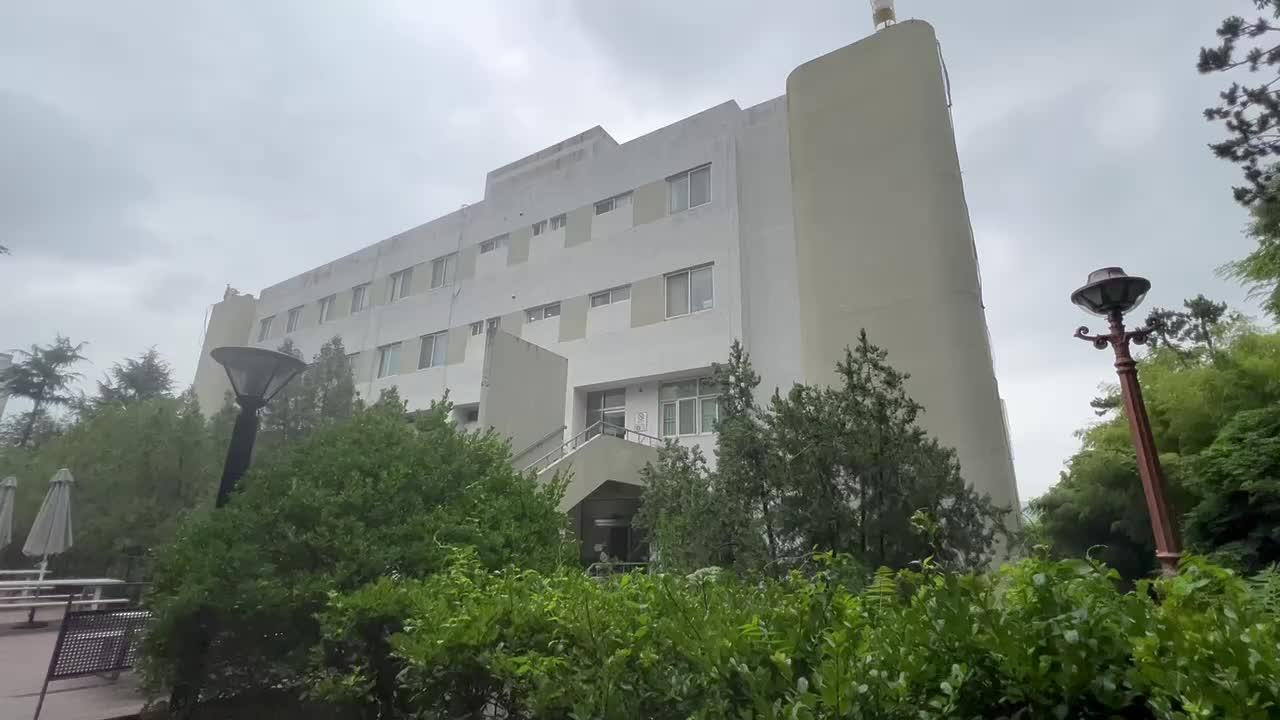building: (239, 28, 986, 362)
